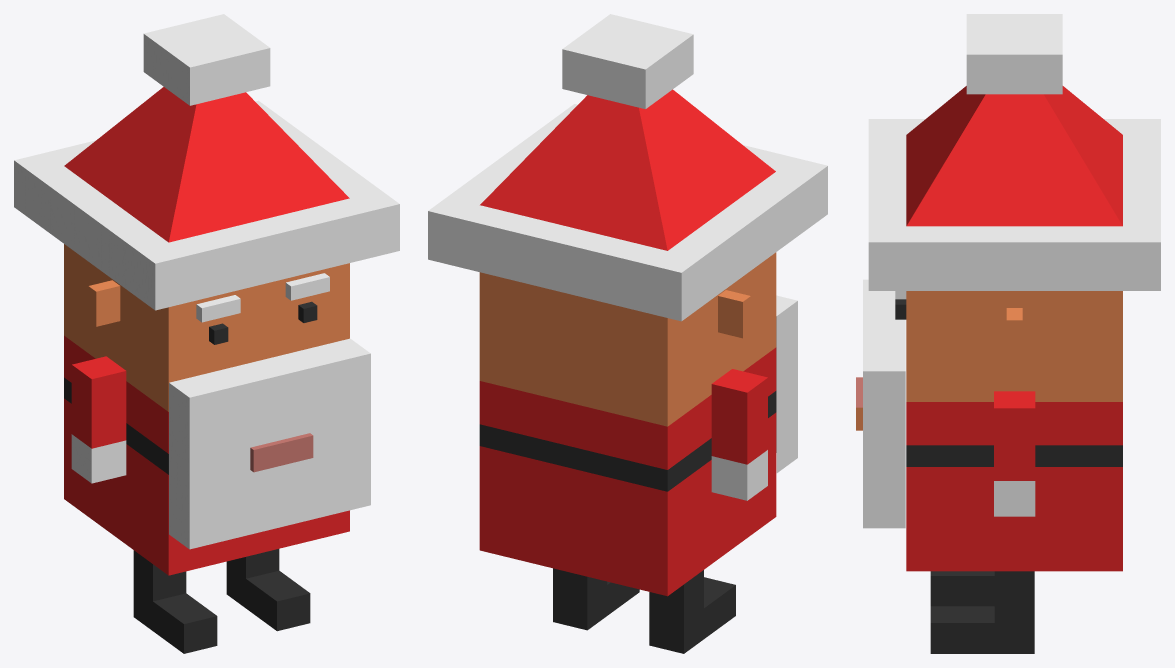
File: 061 Santa_claus.fbx
The picture shows the model from 3 angles, left to right: view 1: azimuth 30°, elevation 25°; view 2: azimuth 150°, elevation 25°; view 3: azimuth 270°, elevation 25°; orthographic projection. The views are drawn at different scales.
Visible parts, largest first — view 1: Lowpoly_Christmas_Pack_061:pCube16; view 2: Lowpoly_Christmas_Pack_061:pCube16; view 3: Lowpoly_Christmas_Pack_061:pCube16.
Part boxes in pixels (left/top/right/bottom): Lowpoly_Christmas_Pack_061:pCube16: left=14, top=14, right=399, bottom=653; Lowpoly_Christmas_Pack_061:pCube16: left=428, top=14, right=827, bottom=653; Lowpoly_Christmas_Pack_061:pCube16: left=856, top=14, right=1160, bottom=653.
Bounding box in the file's own units: 1.38 × 2.99 × 1.41.
